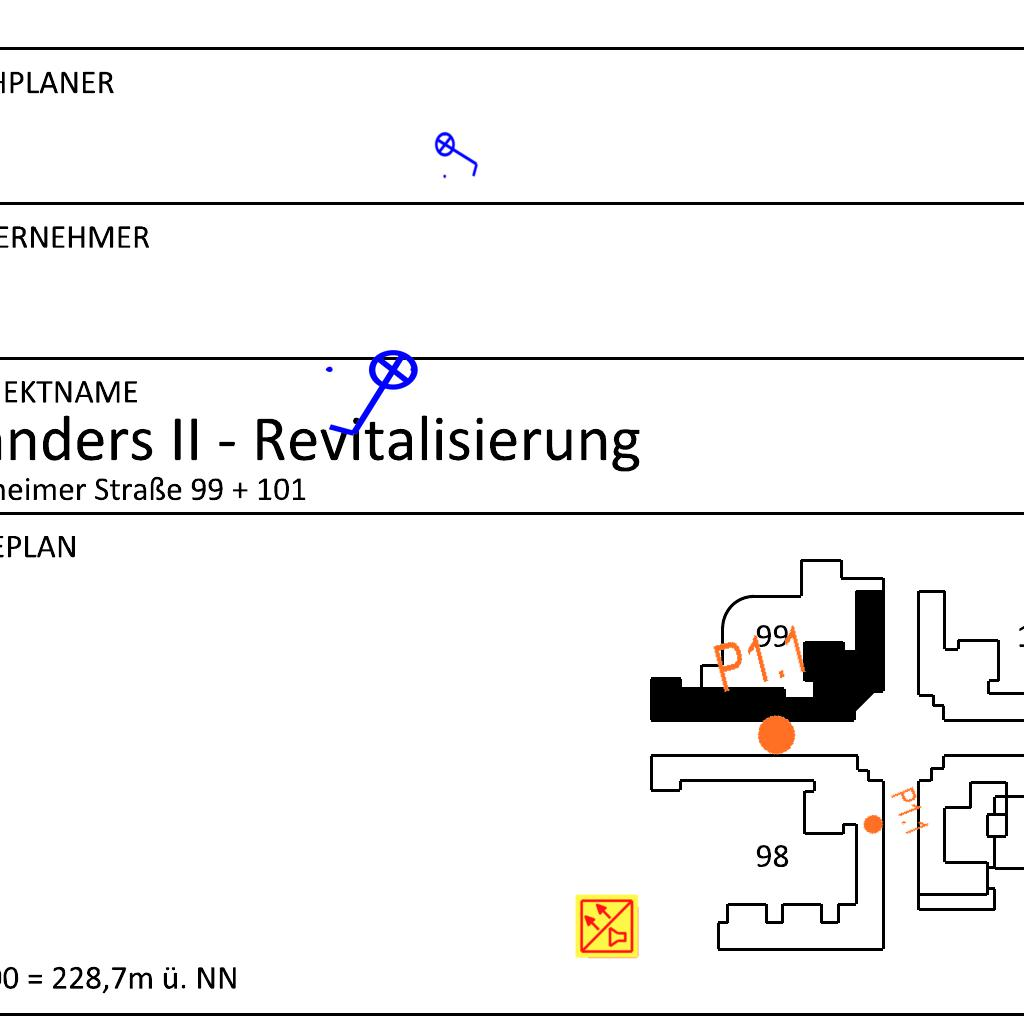Ausschalter_beleuchtet: (320, 348, 432, 444), (434, 125, 482, 181)
Downlight_LED_Einbauleuchten_Flur: (708, 620, 831, 768), (854, 784, 932, 852)
OKW_Multisensormelder_(Kombination_optischer_Rauch-Kahlenmonoxid_Waerme-Melder): (574, 893, 640, 959)
